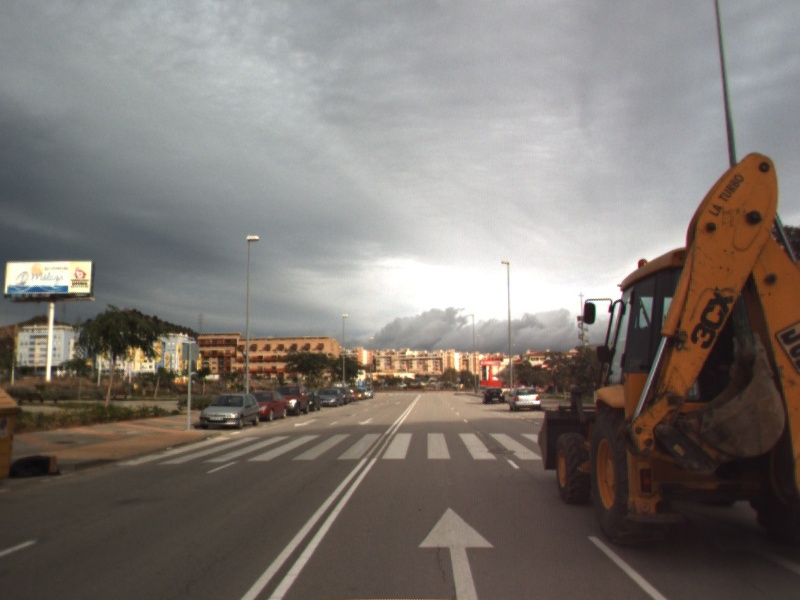STRAIGHT: (673, 501, 800, 576), (416, 504, 497, 600)
